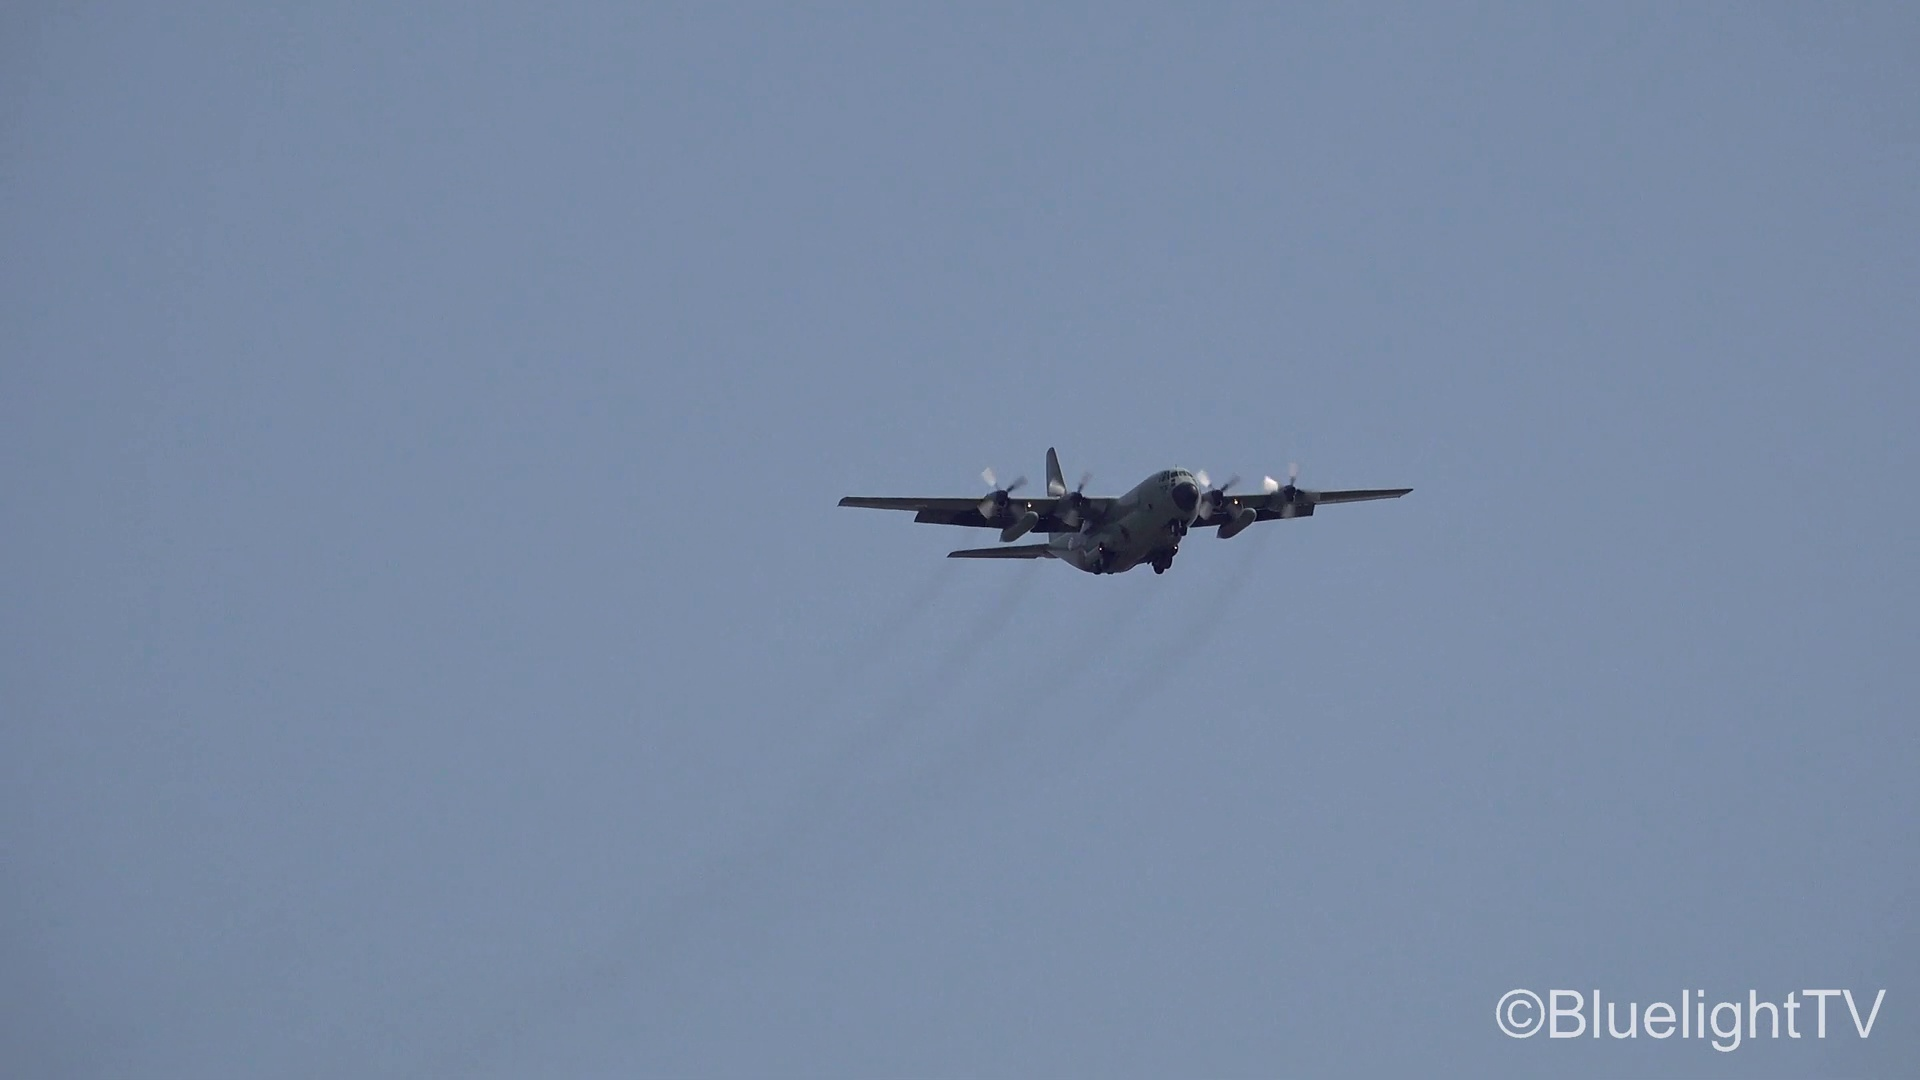Airplane: (831, 440, 1425, 583)
